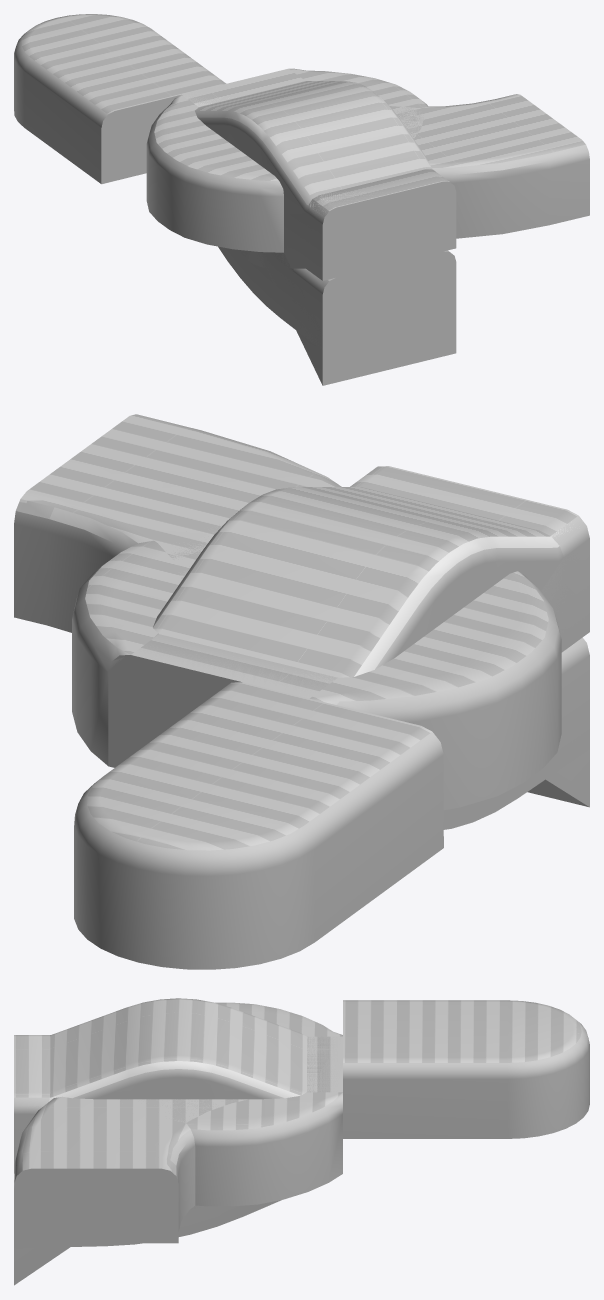
File: Floor_2x2_SofterEdge_thick.fbx
3 views of the same model, one above another, from view 1: azimuth 30°, elevation 25°; view 2: azimuth 150°, elevation 25°; view 3: azimuth 270°, elevation 25° (orthographic). The views are drawn at different scales.
Parts seen in each view (by area): view 1: Floor_2x2_SrE_T_hill, Floor_2x2_SrE_T_cap, Floor_2x2_SrE_T_rotate, Floor_2x2_SrE_T_circle, Floor_2x2_SrE_T_ramp1, Floor_2x2_SrE_T_ramp2, Floor_2x2_SrE_T_deep1, Floor_2x2_SrE_T_deep2, Floor_2x2_SrE_T_main; view 2: Floor_2x2_SrE_T_cap, Floor_2x2_SrE_T_hill, Floor_2x2_SrE_T_circle, Floor_2x2_SrE_T_rotate, Floor_2x2_SrE_T_deep1, Floor_2x2_SrE_T_main, Floor_2x2_SrE_T_ramp1, Floor_2x2_SrE_T_ramp2; view 3: Floor_2x2_SrE_T_cap, Floor_2x2_SrE_T_rotate, Floor_2x2_SrE_T_hill, Floor_2x2_SrE_T_circle, Floor_2x2_SrE_T_deep1, Floor_2x2_SrE_T_ramp1, Floor_2x2_SrE_T_main, Floor_2x2_SrE_T_ramp2.
Boxes of the visible parts, x1=… form: Floor_2x2_SrE_T_hill: x1=195, y1=81, x2=456, y2=280; Floor_2x2_SrE_T_cap: x1=14, y1=14, x2=226, y2=184; Floor_2x2_SrE_T_rotate: x1=390, y1=94, x2=589, y2=238; Floor_2x2_SrE_T_circle: x1=146, y1=68, x2=427, y2=252; Floor_2x2_SrE_T_ramp1: x1=218, y1=246, x2=456, y2=350; Floor_2x2_SrE_T_ramp2: x1=260, y1=252, x2=456, y2=385; Floor_2x2_SrE_T_deep1: x1=182, y1=79, x2=456, y2=279; Floor_2x2_SrE_T_deep2: x1=286, y1=183, x2=456, y2=280; Floor_2x2_SrE_T_main: x1=182, y1=68, x2=304, y2=106; Floor_2x2_SrE_T_cap: x1=74, y1=682, x2=443, y2=969; Floor_2x2_SrE_T_hill: x1=114, y1=487, x2=589, y2=735; Floor_2x2_SrE_T_circle: x1=72, y1=526, x2=561, y2=810; Floor_2x2_SrE_T_rotate: x1=14, y1=414, x2=341, y2=750; Floor_2x2_SrE_T_deep1: x1=132, y1=466, x2=589, y2=697; Floor_2x2_SrE_T_main: x1=108, y1=645, x2=336, y2=767; Floor_2x2_SrE_T_ramp1: x1=108, y1=637, x2=589, y2=829; Floor_2x2_SrE_T_ramp2: x1=527, y1=739, x2=589, y2=807; Floor_2x2_SrE_T_cap: x1=343, y1=1000, x2=589, y2=1138; Floor_2x2_SrE_T_rotate: x1=14, y1=1092, x2=310, y2=1243; Floor_2x2_SrE_T_hill: x1=14, y1=998, x2=306, y2=1169; Floor_2x2_SrE_T_circle: x1=159, y1=1002, x2=342, y2=1206; Floor_2x2_SrE_T_deep1: x1=14, y1=1035, x2=342, y2=1209; Floor_2x2_SrE_T_ramp1: x1=14, y1=1173, x2=281, y2=1248; Floor_2x2_SrE_T_main: x1=307, y1=1036, x2=342, y2=1092; Floor_2x2_SrE_T_ramp2: x1=14, y1=1247, x2=70, y2=1285.
Size of the model in its own units: 500 by 299 by 700.
